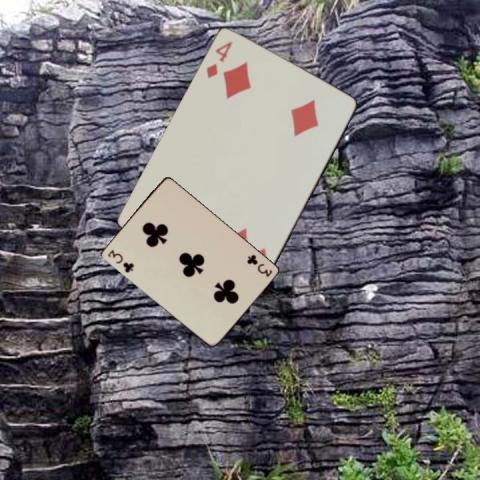3c: (244, 251, 274, 279), (105, 247, 135, 274)
4d: (203, 38, 235, 80)
